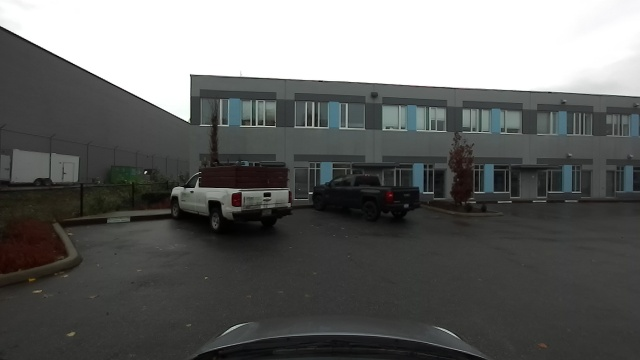car: (170, 169, 294, 231), (314, 174, 422, 218)
